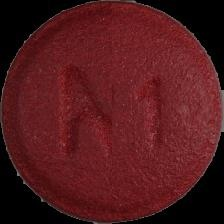43063-353: (0, 0, 224, 224)
